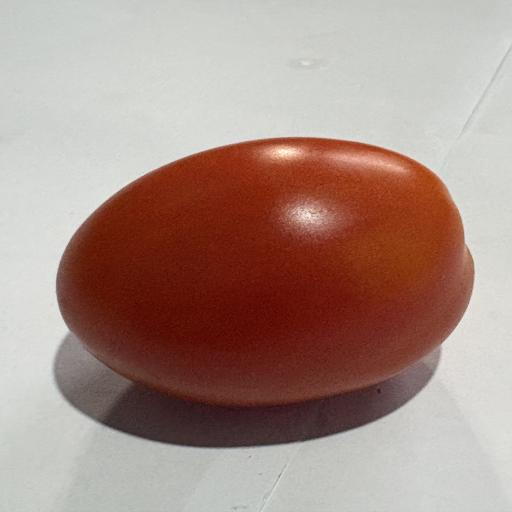ripe: (57, 138, 474, 406)
